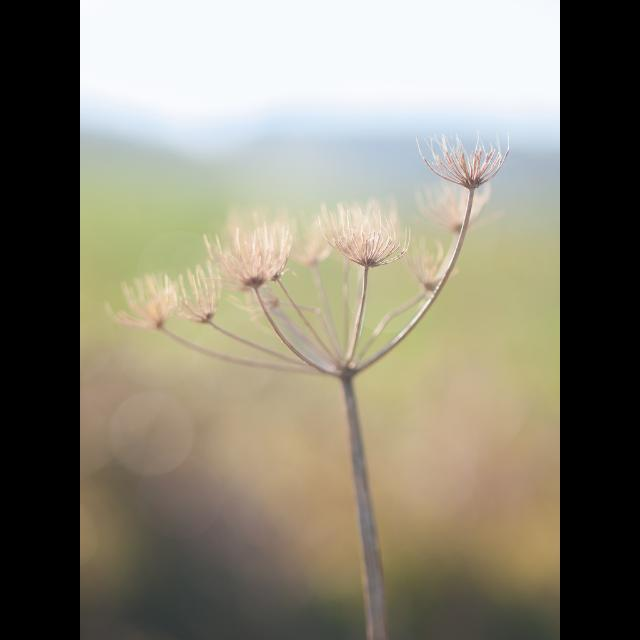Flower: (422, 119, 514, 193)
